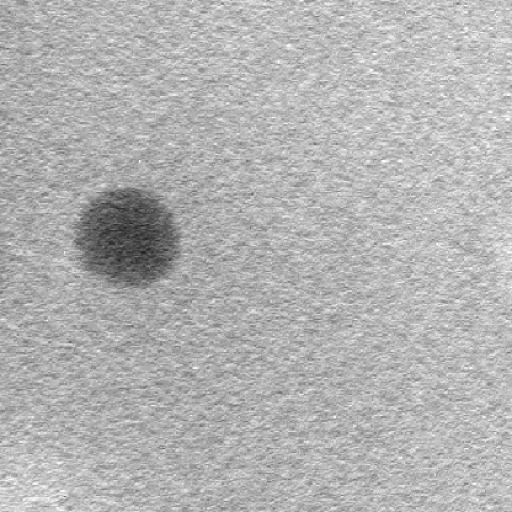Nanoparticles: (75, 188, 187, 293)
